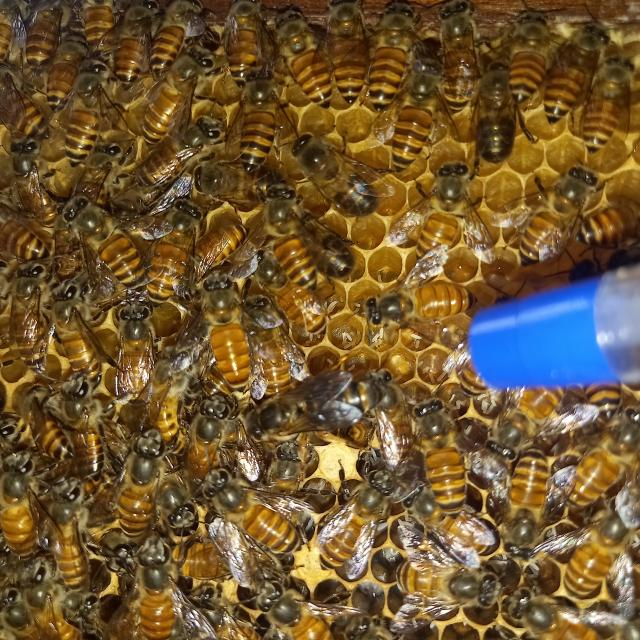honeybee: (206, 460, 317, 587), (120, 107, 226, 214), (383, 523, 499, 614), (250, 370, 377, 452), (318, 461, 401, 573), (285, 130, 382, 222), (59, 197, 140, 307), (483, 369, 584, 454), (410, 161, 488, 270), (408, 393, 474, 516), (123, 539, 202, 640), (388, 47, 449, 173), (266, 5, 339, 109), (196, 268, 256, 392), (41, 474, 102, 595), (360, 270, 482, 328), (564, 496, 632, 599), (231, 62, 289, 180), (573, 400, 638, 505), (431, 0, 490, 115), (260, 188, 322, 296), (514, 164, 586, 256), (144, 192, 206, 298), (52, 58, 109, 171), (52, 274, 105, 388), (497, 6, 556, 106), (174, 224, 251, 300), (509, 587, 616, 640), (501, 439, 551, 552), (294, 190, 352, 286), (138, 47, 197, 140), (365, 370, 418, 472), (12, 134, 60, 246), (474, 55, 524, 162), (369, 5, 420, 109), (324, 1, 374, 107), (248, 584, 342, 640), (546, 10, 593, 121), (106, 292, 152, 403), (582, 39, 628, 148), (0, 452, 42, 562), (148, 332, 188, 444), (119, 426, 161, 532), (110, 0, 160, 87), (222, 0, 266, 98), (186, 381, 236, 464), (0, 61, 43, 152), (10, 255, 50, 352), (152, 0, 196, 80), (22, 0, 65, 73), (150, 473, 190, 537), (78, 0, 122, 53), (272, 440, 310, 492)
